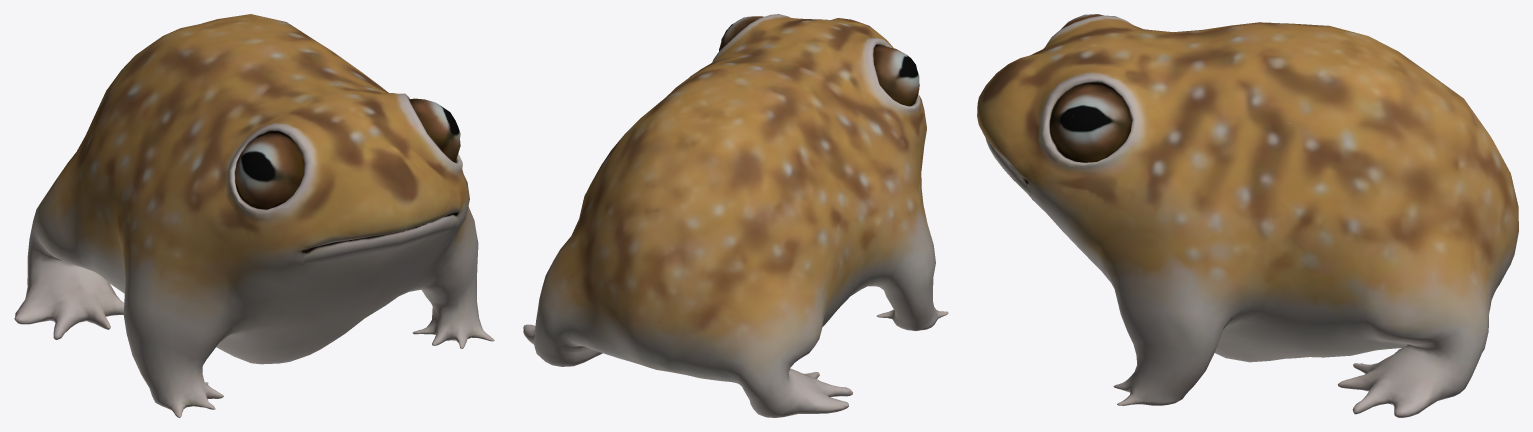
The model's file is frog.glb.
3 views of the same model, side by side, from view 1: azimuth 30°, elevation 25°; view 2: azimuth 150°, elevation 25°; view 3: azimuth 270°, elevation 25° (orthographic). The views are drawn at different scales.
Visible parts, largest first — view 1: geometry_0; view 2: geometry_0; view 3: geometry_0.
Boxes of the visible parts, x1,y1,x2,y2 form: geometry_0: (14, 14, 494, 417); geometry_0: (523, 14, 948, 417); geometry_0: (977, 14, 1518, 417).
Bounding box in the file's own units: 0.7617 × 0.6113 × 0.9565.
Materials: 1 (1 with a texture image).
